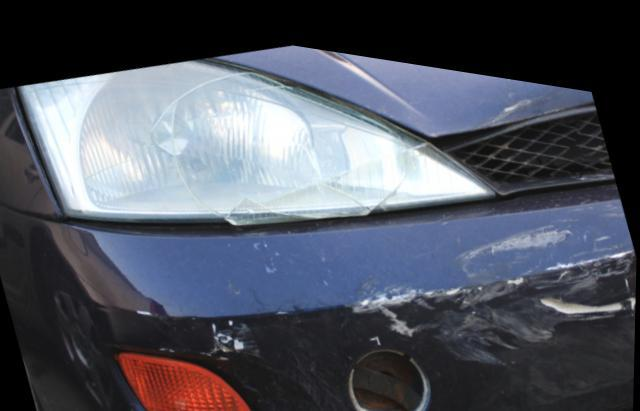lamp broken: (17, 50, 497, 218)
scratch: (354, 183, 637, 352), (209, 310, 271, 351)
